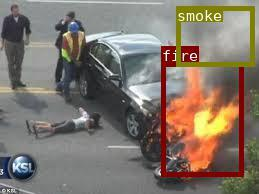fire: (161, 62, 243, 176)
smoke: (176, 6, 254, 66)
